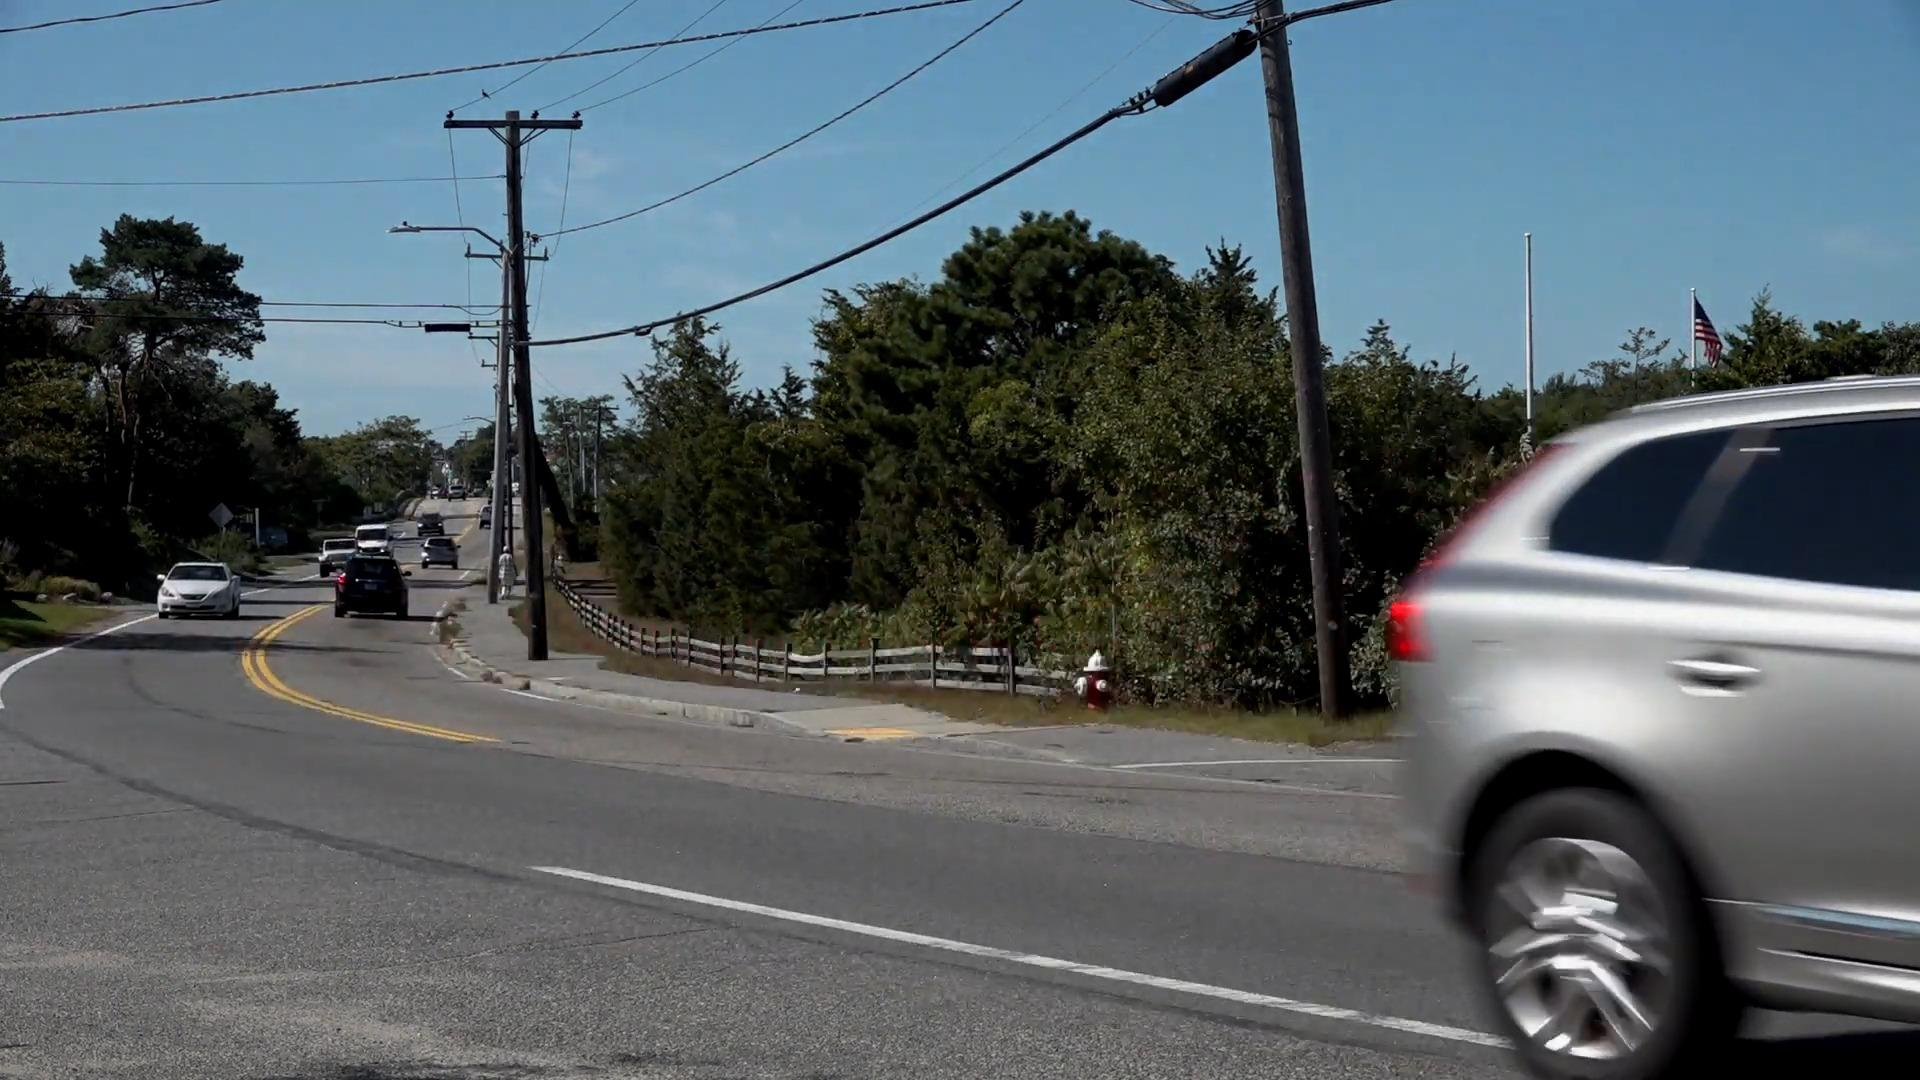sedans: (157, 561, 239, 618)
suv: (1391, 368, 1919, 1080), (336, 555, 408, 618)
